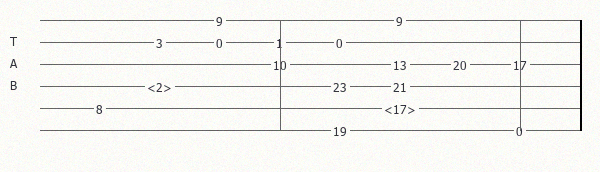0: (216, 36, 227, 49), (336, 36, 347, 49), (516, 124, 527, 137)
1: (276, 36, 287, 49)
10: (273, 58, 291, 71)
13: (393, 58, 411, 71)
17: (513, 58, 531, 71)
19: (333, 124, 351, 137)
20: (453, 58, 471, 71)
21: (393, 80, 411, 93)
23: (333, 80, 351, 93)
3: (156, 36, 167, 49)
8: (96, 102, 107, 115)
9: (216, 14, 227, 27), (396, 14, 407, 27)
harmonic: (384, 102, 420, 115), (147, 80, 176, 93)
